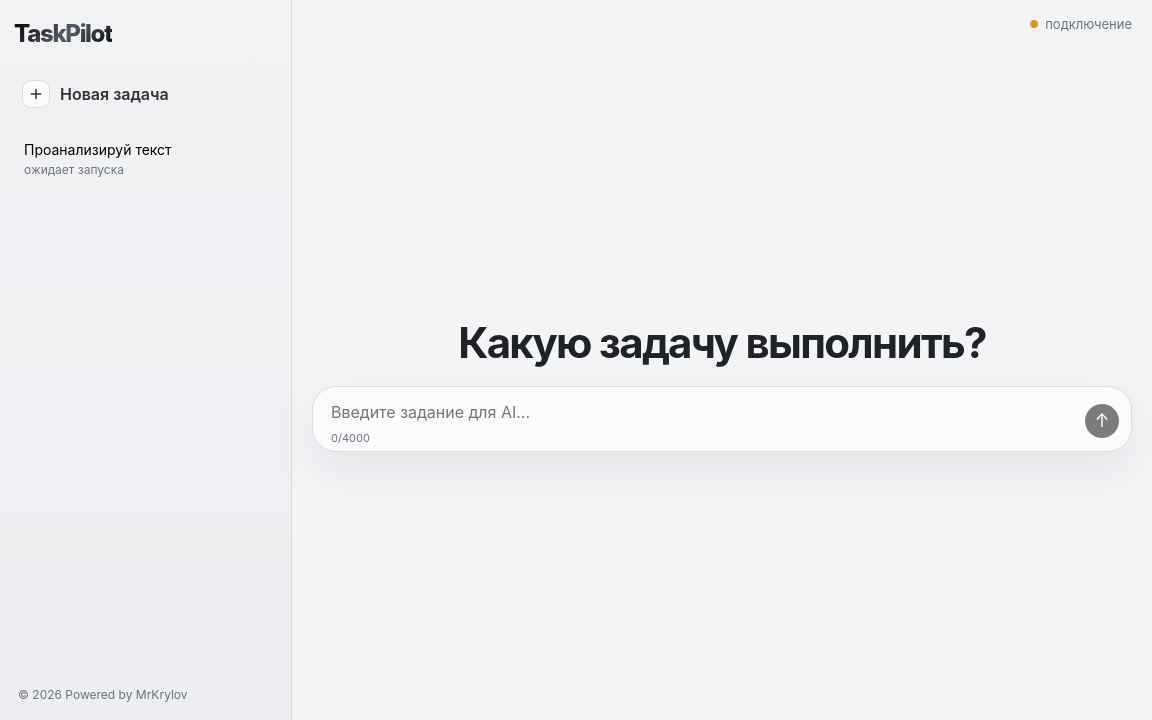
Test: AI Agent frontend › выбирает задачу в sidebar
Step 1. Click the text "Проанализируй текст" → (98, 150), box [24, 141, 172, 158]
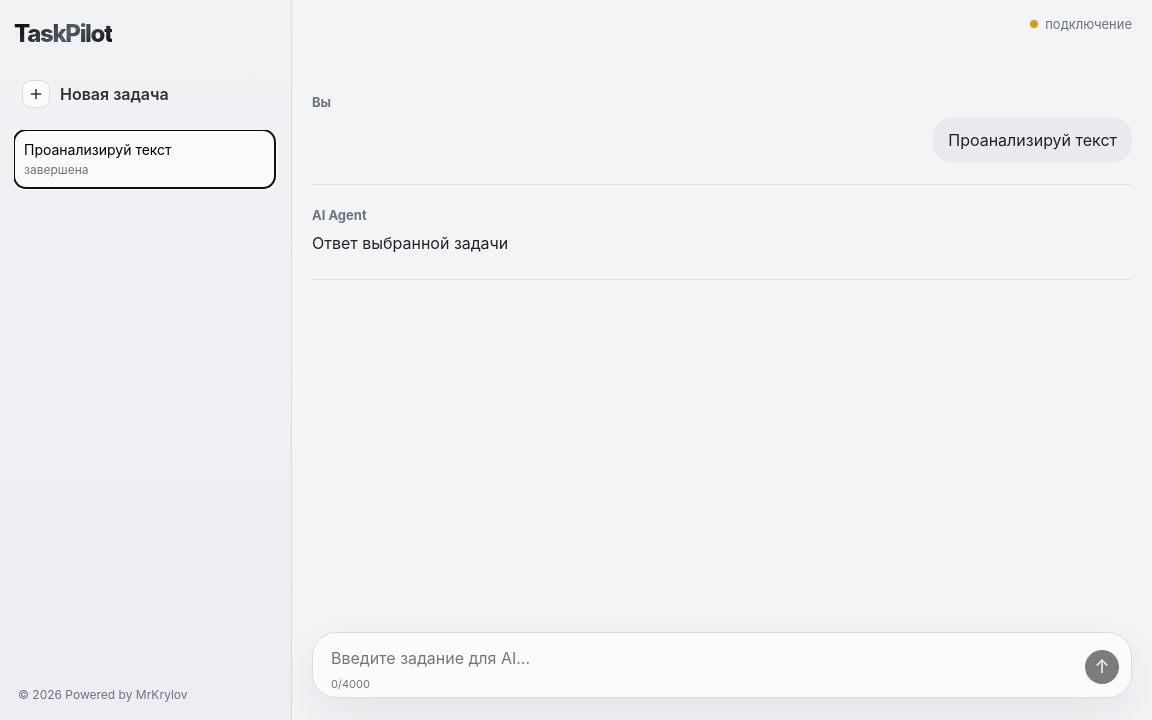
Expected: the text "Ответ выбранной задачи" is shown, [312, 233, 508, 253]
